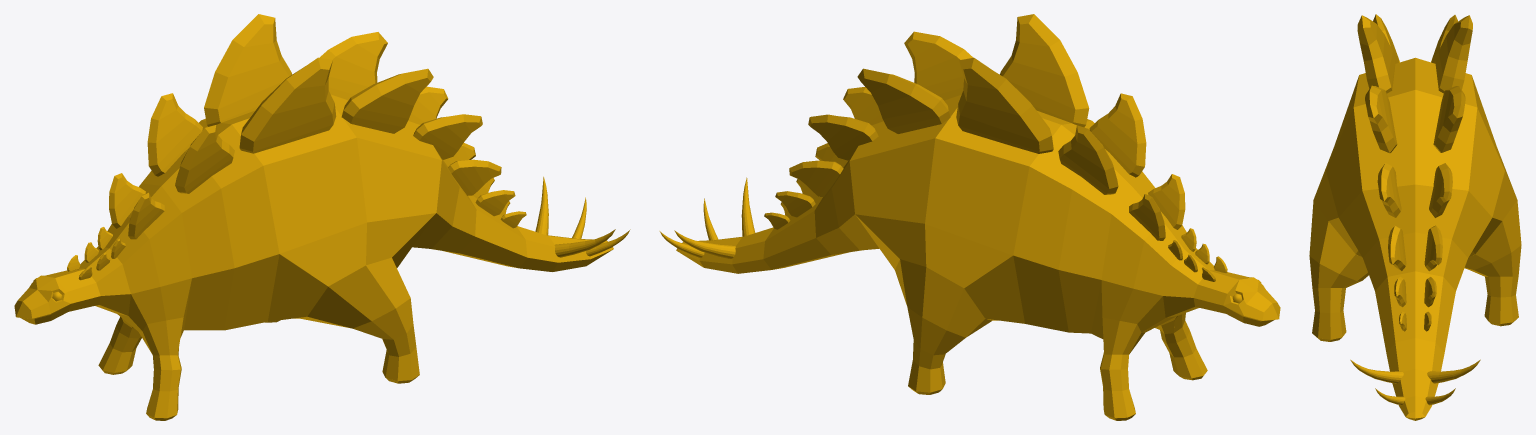
Rendered from Stegosaurus_-_Low_Poly_Dinosaur.glb.
3 renders of one model, left to right at view 1: azimuth 30°, elevation 25°; view 2: azimuth 150°, elevation 25°; view 3: azimuth 270°, elevation 25°, orthographic. The views are drawn at different scales.
Parts seen in each view (by area): view 1: Box001_Material #26_0, Box002_Material #29_0, Box009_Material #29_0, Box003_Material #29_0, Box010_Material #29_0, Box004_Material #29_0, Box011_Material #29_0, Box001_Material #28_0, Cylinder001_Material #28_0, Box012_Material #29_0; view 2: Box001_Material #26_0, Box002_Material #29_0, Box009_Material #29_0, Box003_Material #29_0, Box010_Material #29_0, Box004_Material #29_0, Box011_Material #29_0, Box001_Material #28_0, Cylinder001_Material #28_0, Box012_Material #29_0, Cylinder002_Material #28_0; view 3: Box001_Material #26_0, Box002_Material #29_0, Box009_Material #29_0, Box010_Material #29_0, Box011_Material #29_0, Cylinder001_Material #28_0, Box001_Material #28_0, Box012_Material #29_0, Box003_Material #29_0, Cylinder002_Material #28_0, Box013_Material #29_0.
Boxes of the visible parts, bbox=[...] form: Box001_Material #26_0: bbox=[14, 94, 613, 418]; Box002_Material #29_0: bbox=[204, 14, 336, 153]; Box009_Material #29_0: bbox=[319, 32, 433, 133]; Box003_Material #29_0: bbox=[147, 93, 234, 193]; Box010_Material #29_0: bbox=[408, 86, 482, 159]; Box004_Material #29_0: bbox=[109, 173, 164, 239]; Box011_Material #29_0: bbox=[443, 143, 501, 195]; Box001_Material #28_0: bbox=[21, 249, 516, 420]; Cylinder001_Material #28_0: bbox=[535, 176, 615, 257]; Box012_Material #29_0: bbox=[473, 178, 515, 216]; Box001_Material #26_0: bbox=[676, 95, 1280, 420]; Box002_Material #29_0: bbox=[956, 14, 1089, 153]; Box009_Material #29_0: bbox=[857, 31, 972, 133]; Box003_Material #29_0: bbox=[1058, 93, 1146, 194]; Box010_Material #29_0: bbox=[808, 87, 883, 160]; Box004_Material #29_0: bbox=[1129, 174, 1185, 240]; Box011_Material #29_0: bbox=[789, 143, 847, 196]; Box001_Material #28_0: bbox=[772, 250, 1273, 394]; Cylinder001_Material #28_0: bbox=[674, 177, 755, 259]; Box012_Material #29_0: bbox=[775, 179, 818, 217]; Cylinder002_Material #28_0: bbox=[659, 198, 718, 257]; Box001_Material #26_0: bbox=[1309, 57, 1521, 420]; Box002_Material #29_0: bbox=[1357, 15, 1472, 93]; Box009_Material #29_0: bbox=[1365, 85, 1465, 153]; Box010_Material #29_0: bbox=[1377, 163, 1452, 217]; Box011_Material #29_0: bbox=[1388, 225, 1442, 271]; Cylinder001_Material #28_0: bbox=[1350, 359, 1480, 383]; Box001_Material #28_0: bbox=[1313, 251, 1490, 341]; Box012_Material #29_0: bbox=[1394, 276, 1436, 307]; Box003_Material #29_0: bbox=[1373, 14, 1457, 63]; Cylinder002_Material #28_0: bbox=[1375, 388, 1455, 405]; Box013_Material #29_0: bbox=[1399, 311, 1431, 331].
Bounding box in the file's own units: 1.06 × 0.5502 × 0.3611.
